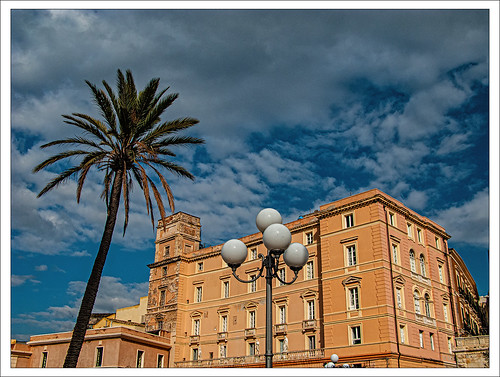low: (143, 189, 484, 367)
